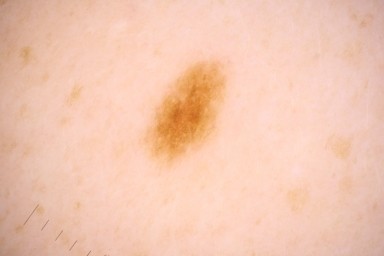nevus: (150, 60, 229, 163)
